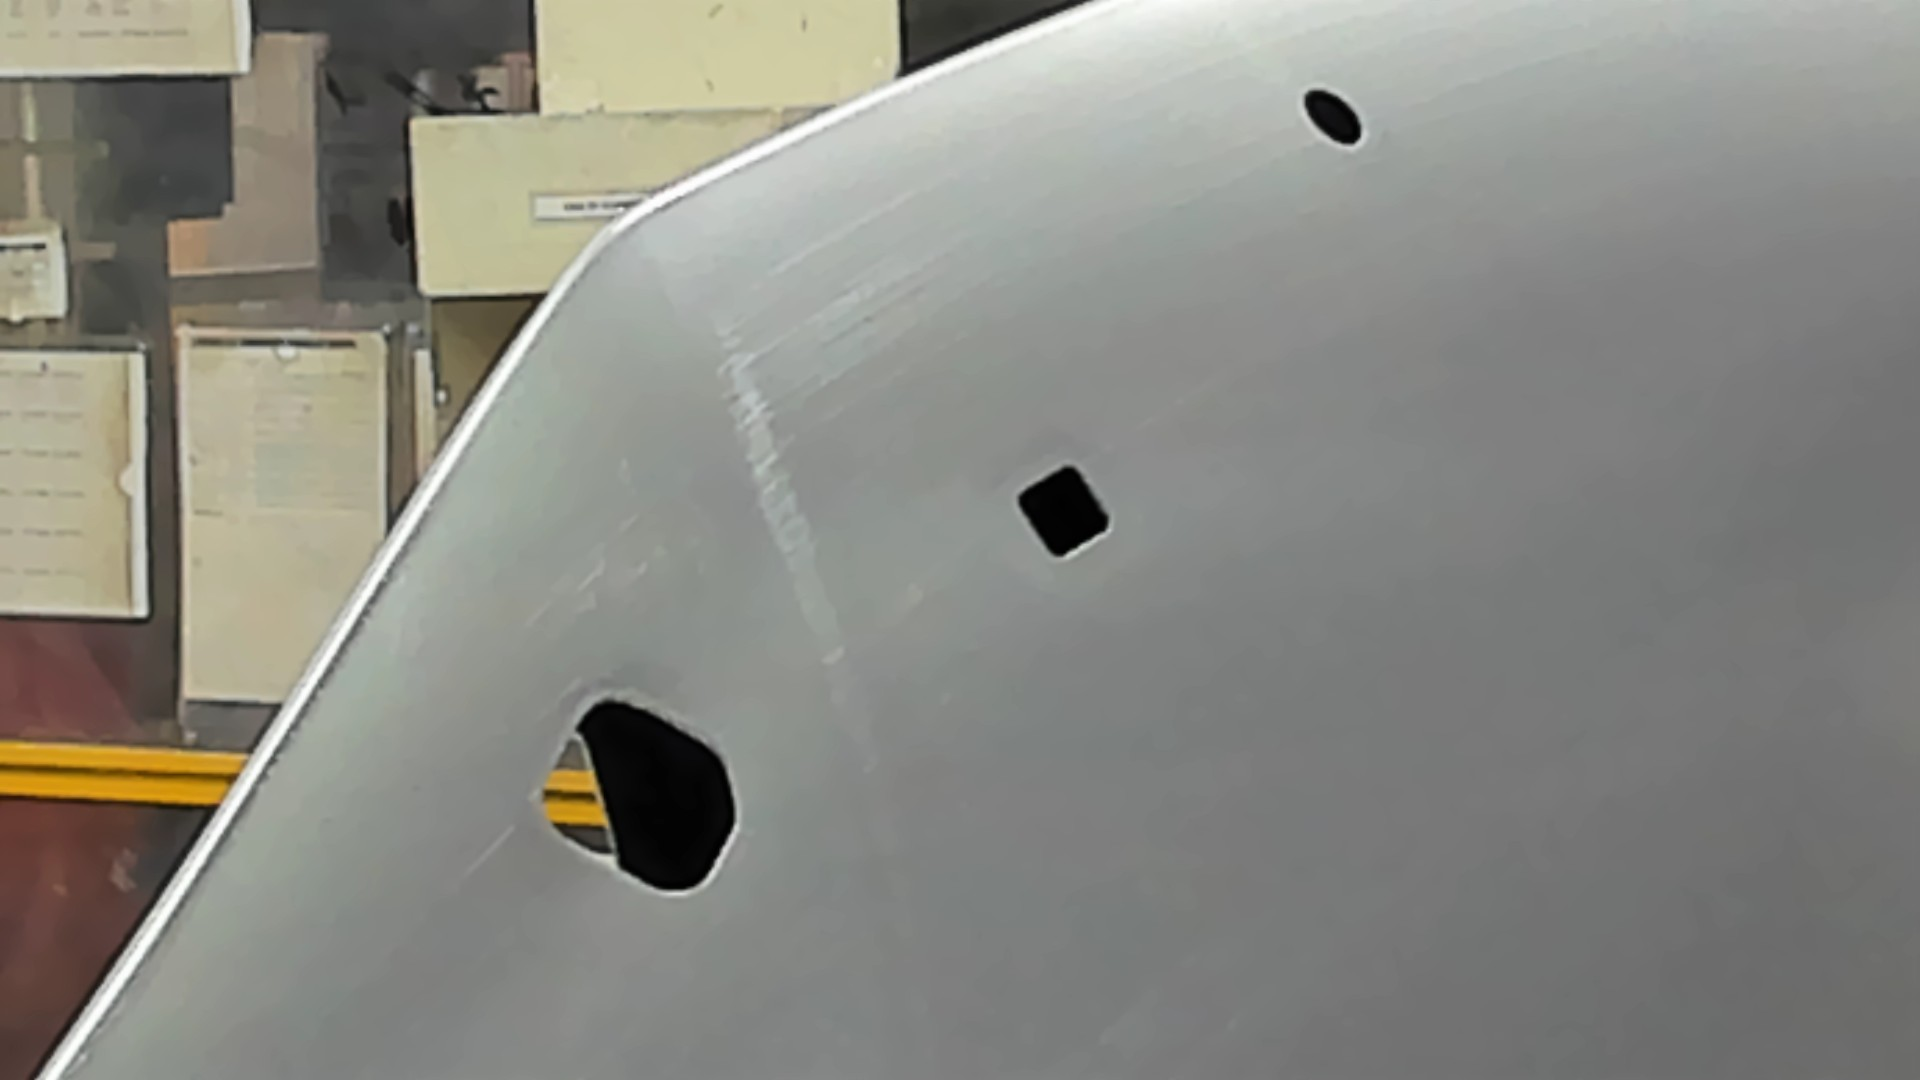chico: (1295, 76, 1370, 153)
grande: (533, 687, 746, 903)
mediano: (1010, 459, 1116, 564)
